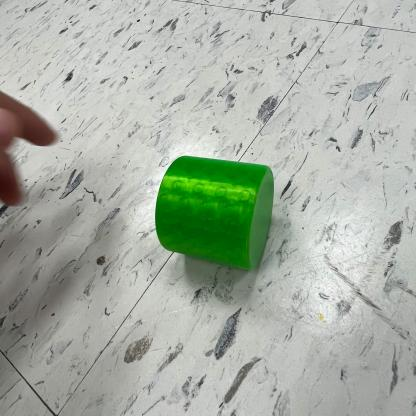green cylinder: (153, 154, 276, 273)
